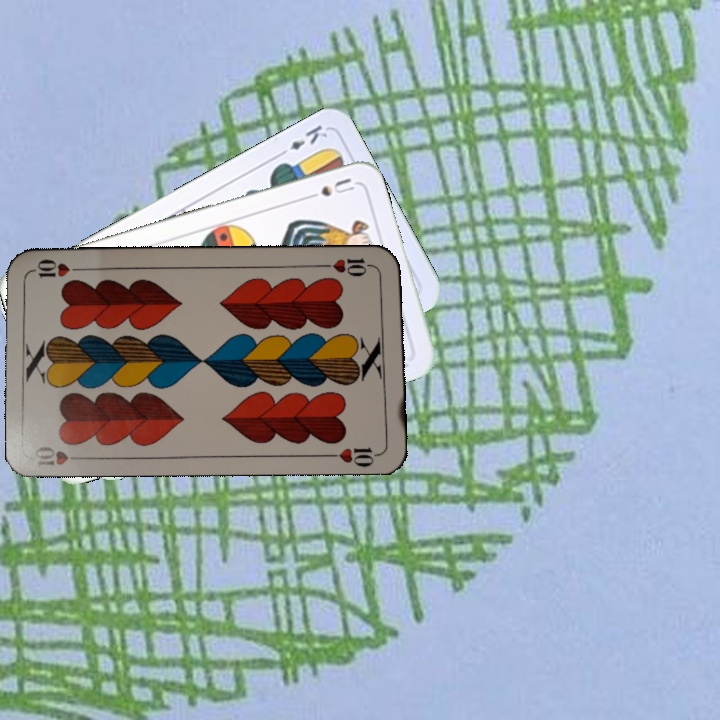EK: (274, 121, 330, 160)
H10: (319, 254, 378, 280), (31, 442, 90, 468)
SU: (300, 174, 357, 203)
